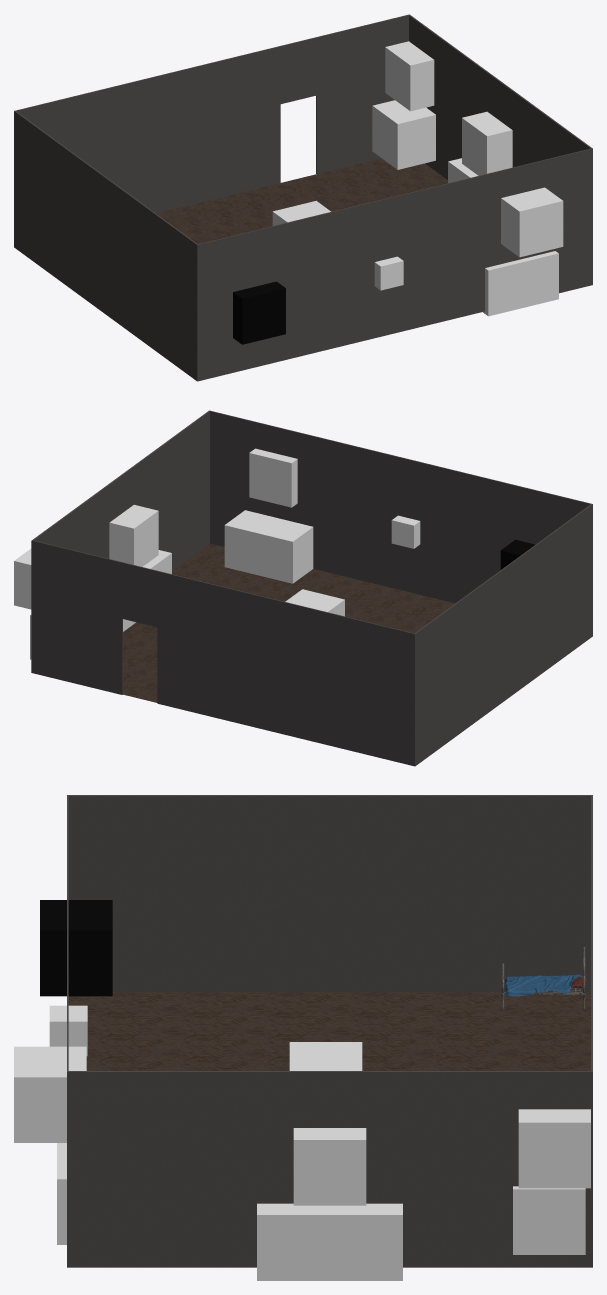
File: BROKEN.gltf
3 views of the same model, one above another, from view 1: azimuth 30°, elevation 25°; view 2: azimuth 150°, elevation 25°; view 3: azimuth 270°, elevation 25° (orthographic). The views are drawn at different scales.
Visible parts, largest first — view 1: Floor.001, Floor, Cube.008, Cube.003, Cube.007, Cube.004, Cube, Cube.006, Cube.001, Cube.002; view 2: Floor.001, Floor, Cube.007, Cube.006, Cube.008, Cube.004, Cube.002, Cube.001, Cube.005, Cube; view 3: Floor.001, Floor, Cube.005, Cube, Cube.004, Cube.006, Cube.008, Cube.003, Cube.002, Old abandoned bed, Cube.001, Cube.007.
Part boxes in pixels (left/top/right/bottom): Floor.001: left=14, top=14, right=592, bottom=381; Floor: left=156, top=158, right=447, bottom=244; Cube.008: left=501, top=187, right=563, bottom=257; Cube.003: left=372, top=100, right=435, bottom=169; Cube.007: left=483, top=251, right=558, bottom=316; Cube.004: left=385, top=41, right=434, bottom=111; Cube: left=233, top=281, right=285, bottom=344; Cube.006: left=462, top=111, right=512, bottom=175; Cube.001: left=374, top=256, right=403, bottom=290; Cube.002: left=272, top=200, right=330, bottom=225; Floor.001: left=31, top=410, right=592, bottom=766; Floor: left=123, top=543, right=454, bottom=702; Cube.007: left=224, top=510, right=313, bottom=583; Cube.006: left=109, top=504, right=158, bottom=566; Cube.008: left=249, top=448, right=297, bottom=507; Cube.004: left=14, top=548, right=31, bottom=609; Cube.002: left=285, top=589, right=344, bottom=616; Cube.001: left=391, top=515, right=420, bottom=548; Cube.005: left=123, top=550, right=171, bottom=631; Cube: left=500, top=539, right=534, bottom=569; Floor.001: left=67, top=795, right=592, bottom=1267; Floor: left=68, top=992, right=590, bottom=1070; Cube.005: left=257, top=1203, right=402, bottom=1280; Cube: left=40, top=900, right=112, bottom=996; Cube.004: left=518, top=1109, right=590, bottom=1188; Cube.006: left=293, top=1128, right=366, bottom=1205; Cube.008: left=14, top=1046, right=86, bottom=1142; Cube.003: left=513, top=1186, right=585, bottom=1254; Cube.002: left=289, top=1042, right=362, bottom=1070; Old abandoned bed: left=501, top=947, right=585, bottom=1011; Cube.001: left=49, top=1005, right=87, bottom=1056; Cube.007: left=57, top=1143, right=66, bottom=1244.
Size of the model in its own units: 18.92 by 6.06 by 15.96.
5 materials, 4 textured.
